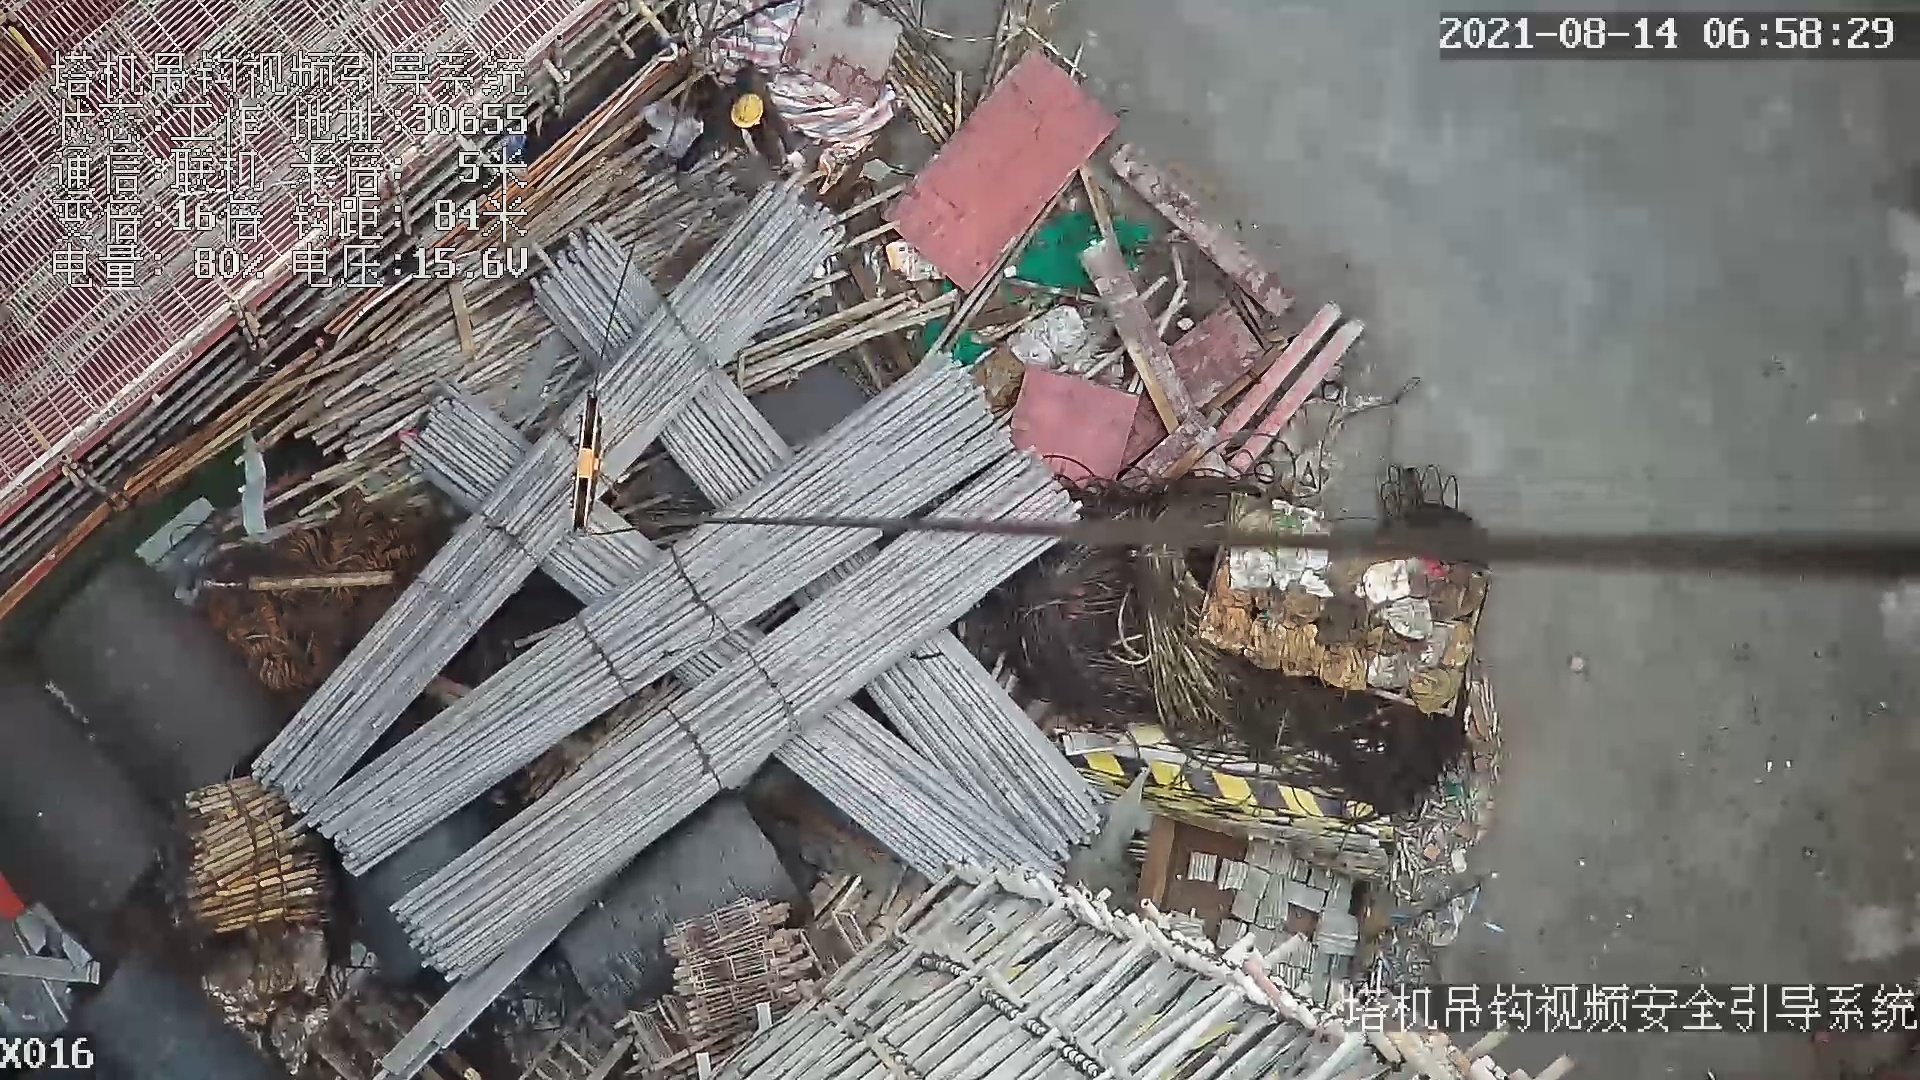helmet: (730, 93, 763, 128)
hook: (568, 391, 613, 536)
person: (682, 74, 794, 167)
rebar: (254, 188, 840, 819), (393, 454, 1085, 985), (304, 361, 1012, 876), (862, 630, 1105, 854), (770, 699, 1066, 881)
scaffold: (181, 774, 328, 937)
